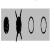correct: (3, 15, 10, 35)
not correct: (15, 8, 22, 43)
